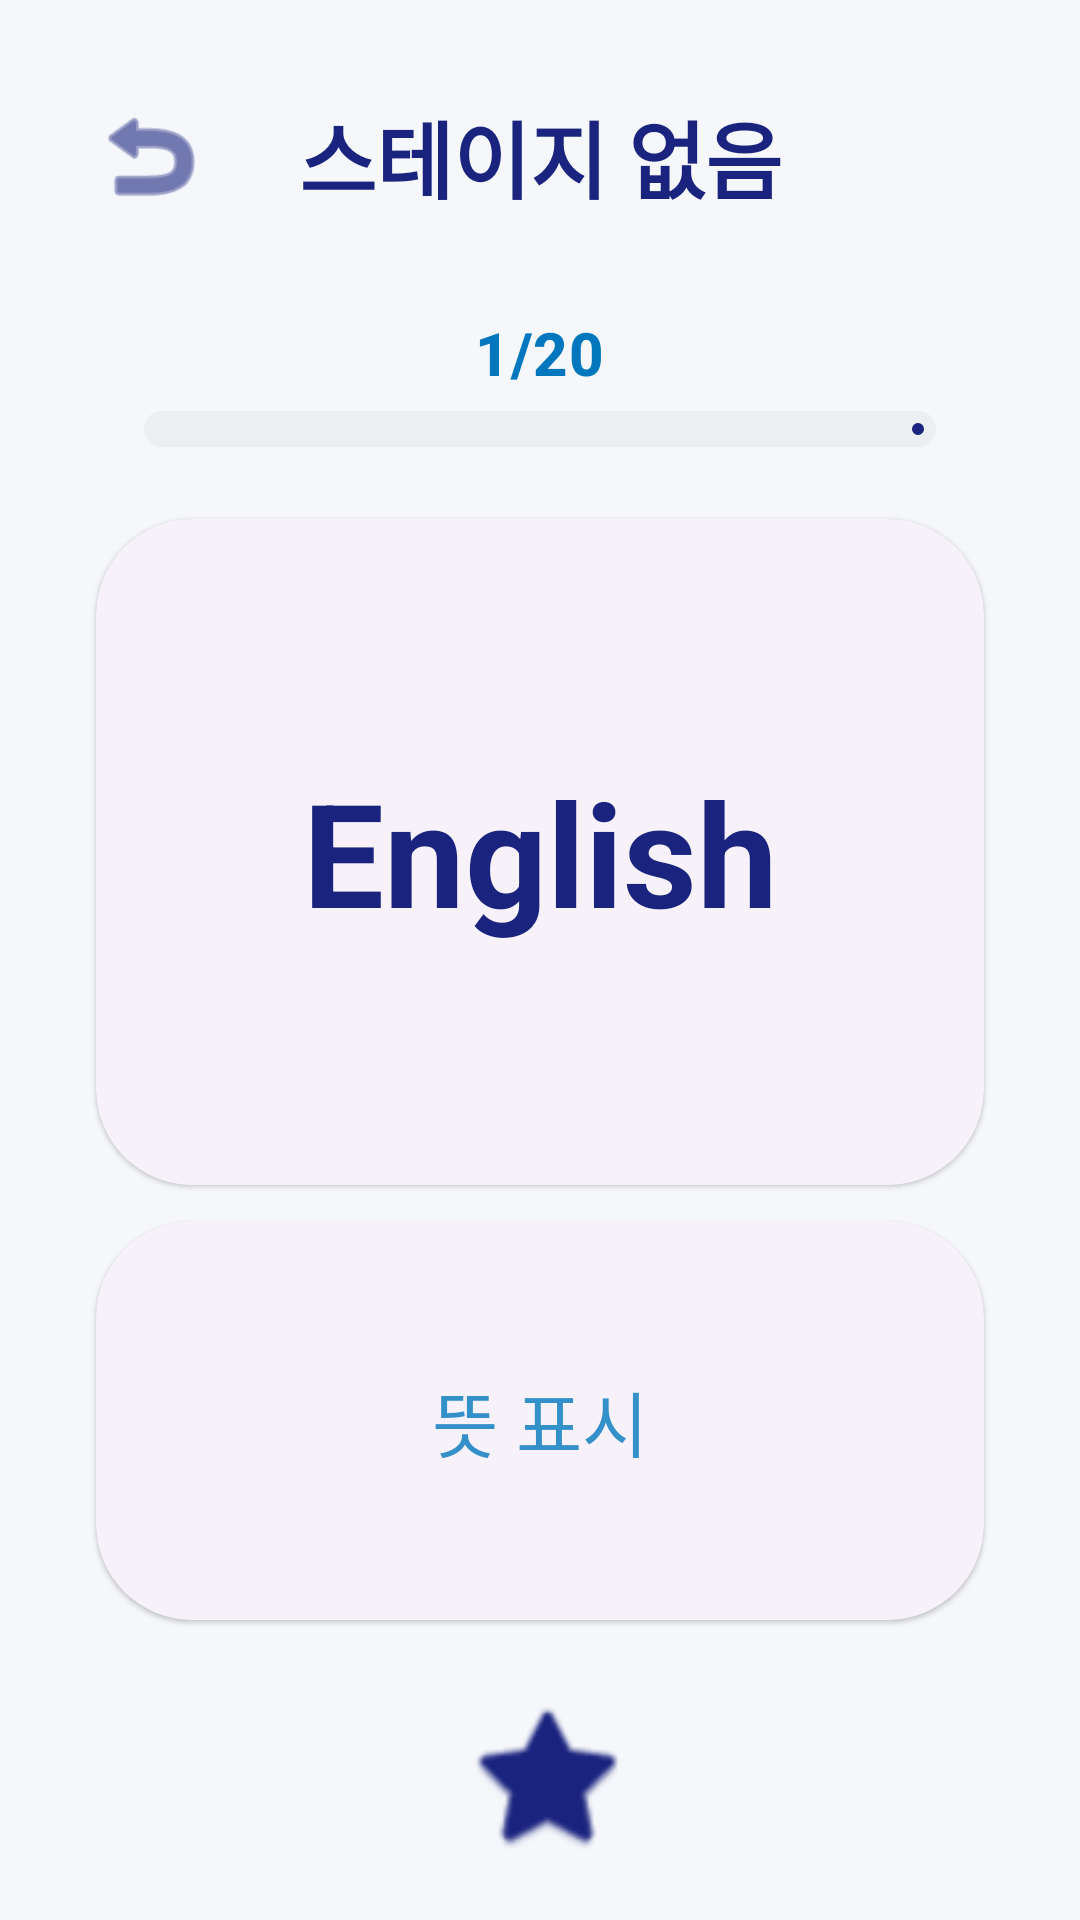

Where icons sit on this 1080w x 1920h app screen, as (x1, y1, x2, y2):
revert: (108, 118, 195, 196)
